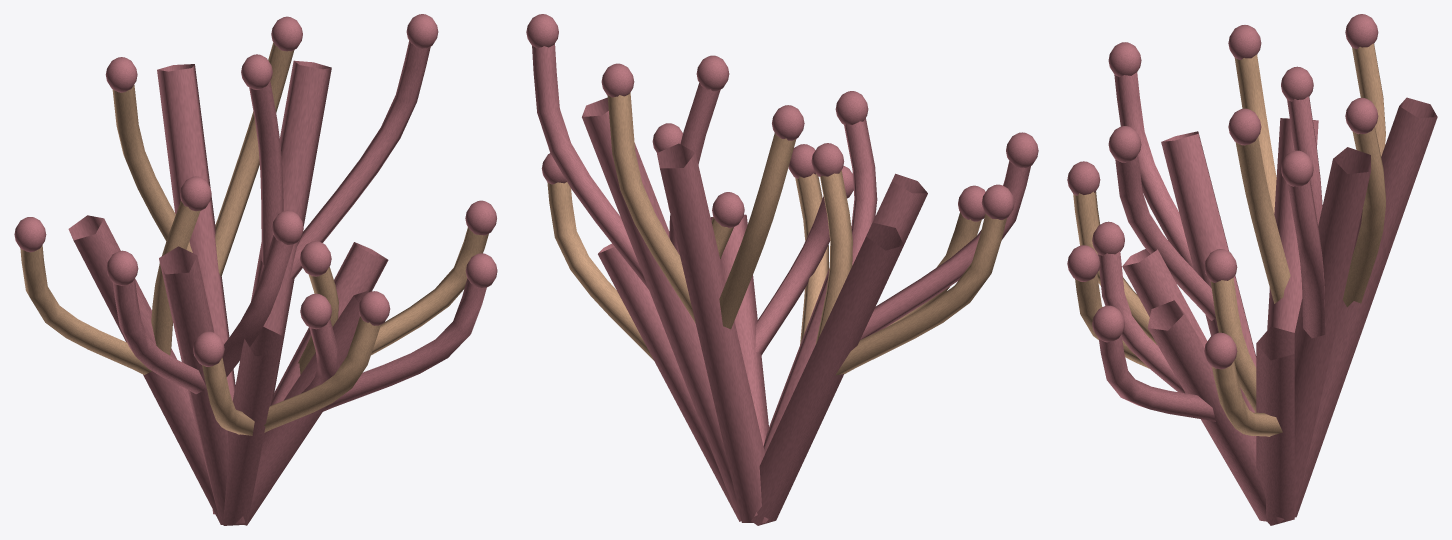
File: coral.glb
The picture shows the model from 3 angles, left to right: view 1: azimuth 30°, elevation 25°; view 2: azimuth 150°, elevation 25°; view 3: azimuth 270°, elevation 25°; orthographic projection. The views are drawn at different scales.
Parts seen in each view (by area): view 1: static_ornament; view 2: static_ornament; view 3: static_ornament.
Part boxes in pixels (x1,y1,x2,y2): static_ornament: (14, 14, 497, 525); static_ornament: (526, 14, 1038, 525); static_ornament: (1067, 14, 1437, 525).
Bounding box in the file's own units: 1.18 × 1.09 × 0.7848.
1 material, 1 textured.
